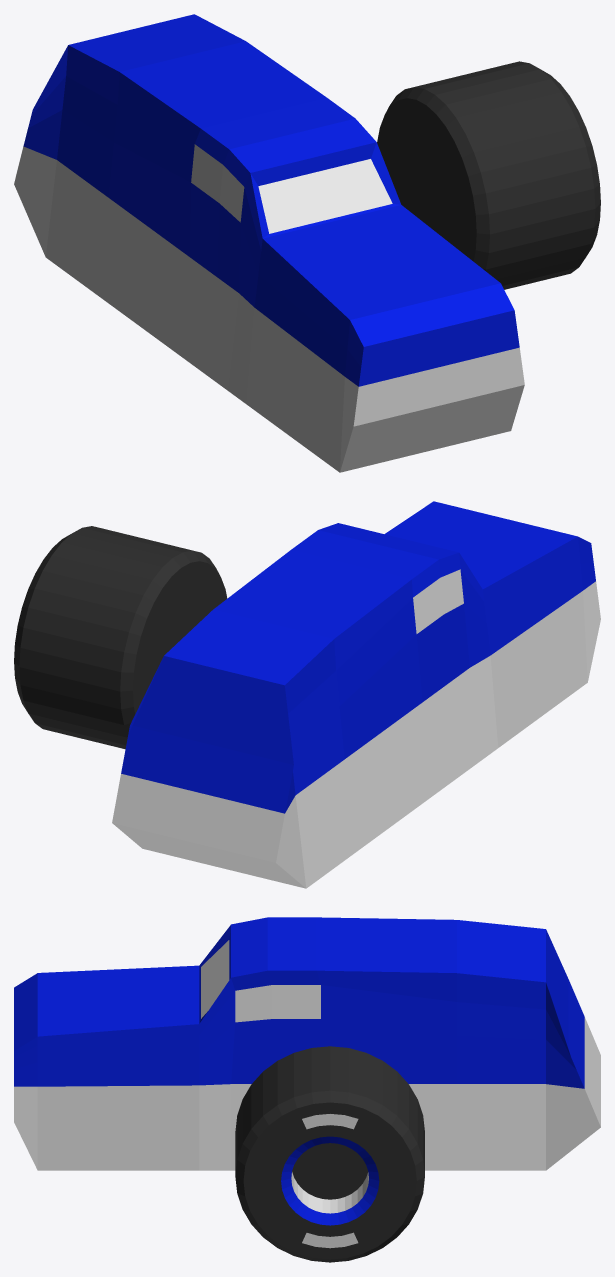
The model's file is VehicleDemo6DOF.glb.
3 views of the same model, one above another, from view 1: azimuth 30°, elevation 25°; view 2: azimuth 150°, elevation 25°; view 3: azimuth 270°, elevation 25° (orthographic). The views are drawn at different scales.
Visible parts, largest first — view 1: CarBody, Wheel; view 2: CarBody, Wheel; view 3: CarBody, Wheel.
Boxes of the visible parts, bbox=[...] form: CarBody: bbox=[14, 14, 524, 472]; Wheel: bbox=[377, 61, 600, 289]; CarBody: bbox=[112, 501, 600, 888]; Wheel: bbox=[14, 526, 227, 749]; CarBody: bbox=[14, 917, 600, 1170]; Wheel: bbox=[235, 1046, 424, 1262].
Size of the model in its own units: 3.36 by 1.94 by 5.2.
